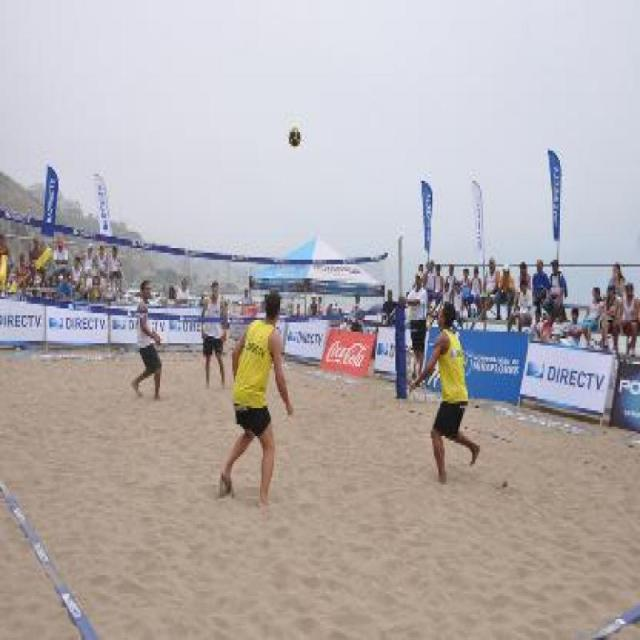volleyball: (288, 125, 300, 146)
